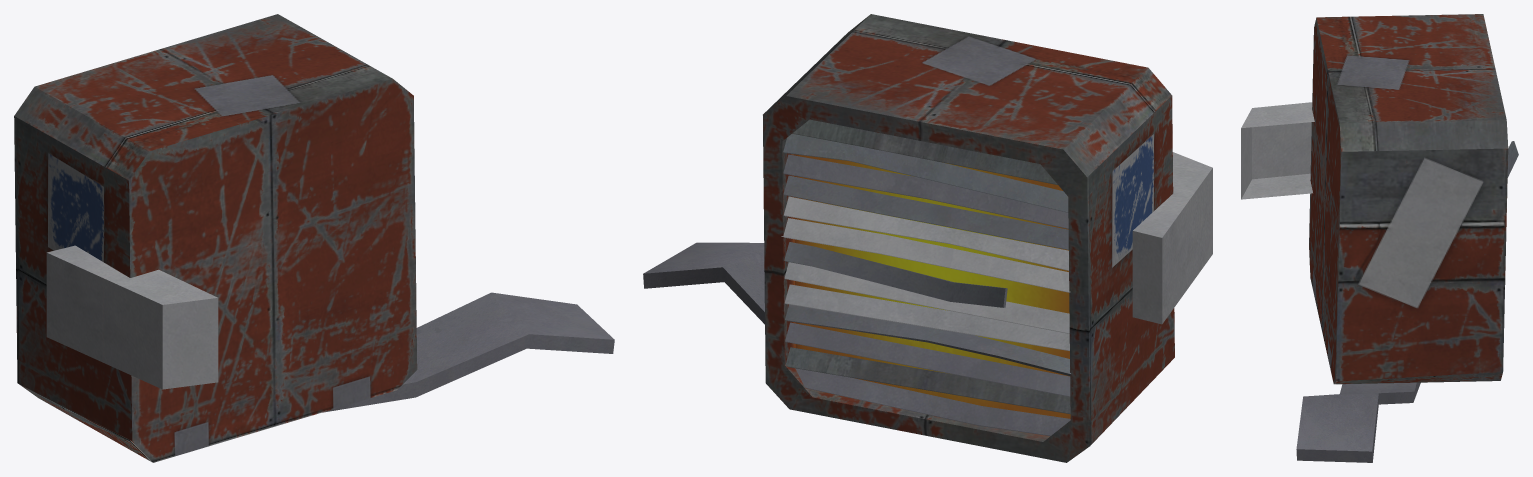
The model's file is HCP11.fbx.
3 renders of one model, left to right at view 1: azimuth 30°, elevation 25°; view 2: azimuth 150°, elevation 25°; view 3: azimuth 270°, elevation 25°, orthographic. The views are drawn at different scales.
Visible parts, largest first — view 1: elevenD; view 2: elevenD; view 3: elevenD.
Part boxes in pixels (bbox=[...]): elevenD: bbox=[14, 14, 614, 462]; elevenD: bbox=[643, 14, 1212, 462]; elevenD: bbox=[1241, 14, 1518, 462].
Bounding box in the file's own units: 5425 × 3255 × 2981.
Materials: 1 (1 with a texture image).
